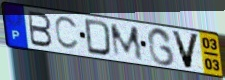B: (27, 10, 54, 49)
C: (53, 16, 80, 52)
D: (84, 18, 113, 58)
G: (146, 26, 176, 68)
M: (109, 23, 145, 62)
V: (170, 29, 202, 70)
